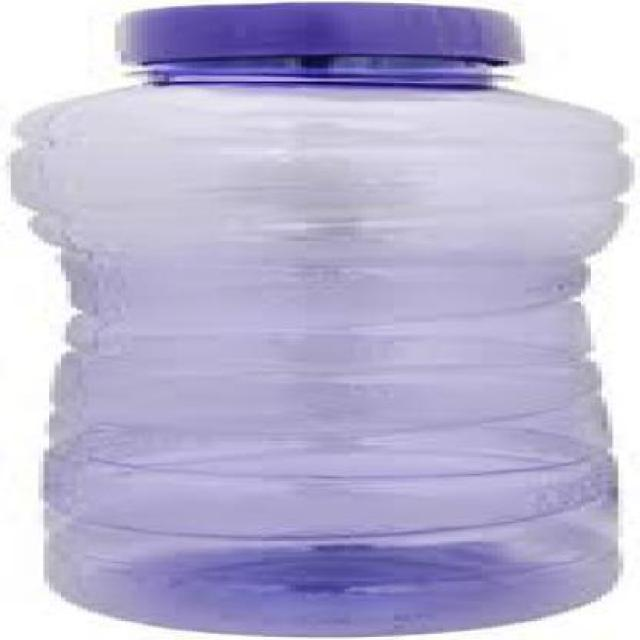Drinking: (43, 3, 634, 639)
